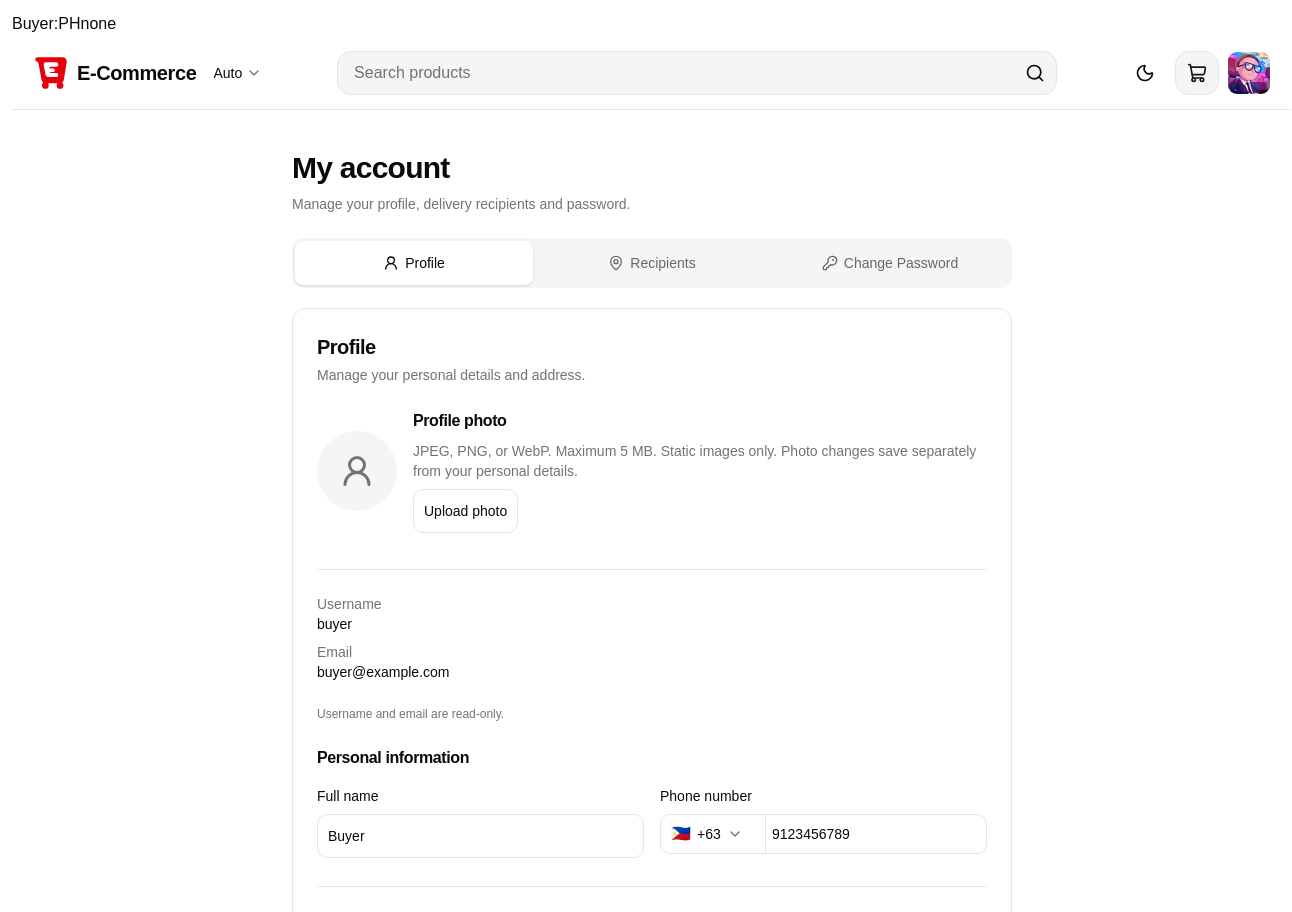
it: loads profile, keeps account identity read-only, and switches tabs
Expected: the field labelled "Full name" holds "Buyer", [317, 814, 644, 858]
Expected: the text "buyer@example.com" is shown, [317, 662, 450, 682]
Step 1. Click the tab "Recipients" → (652, 263), box [533, 241, 771, 285]
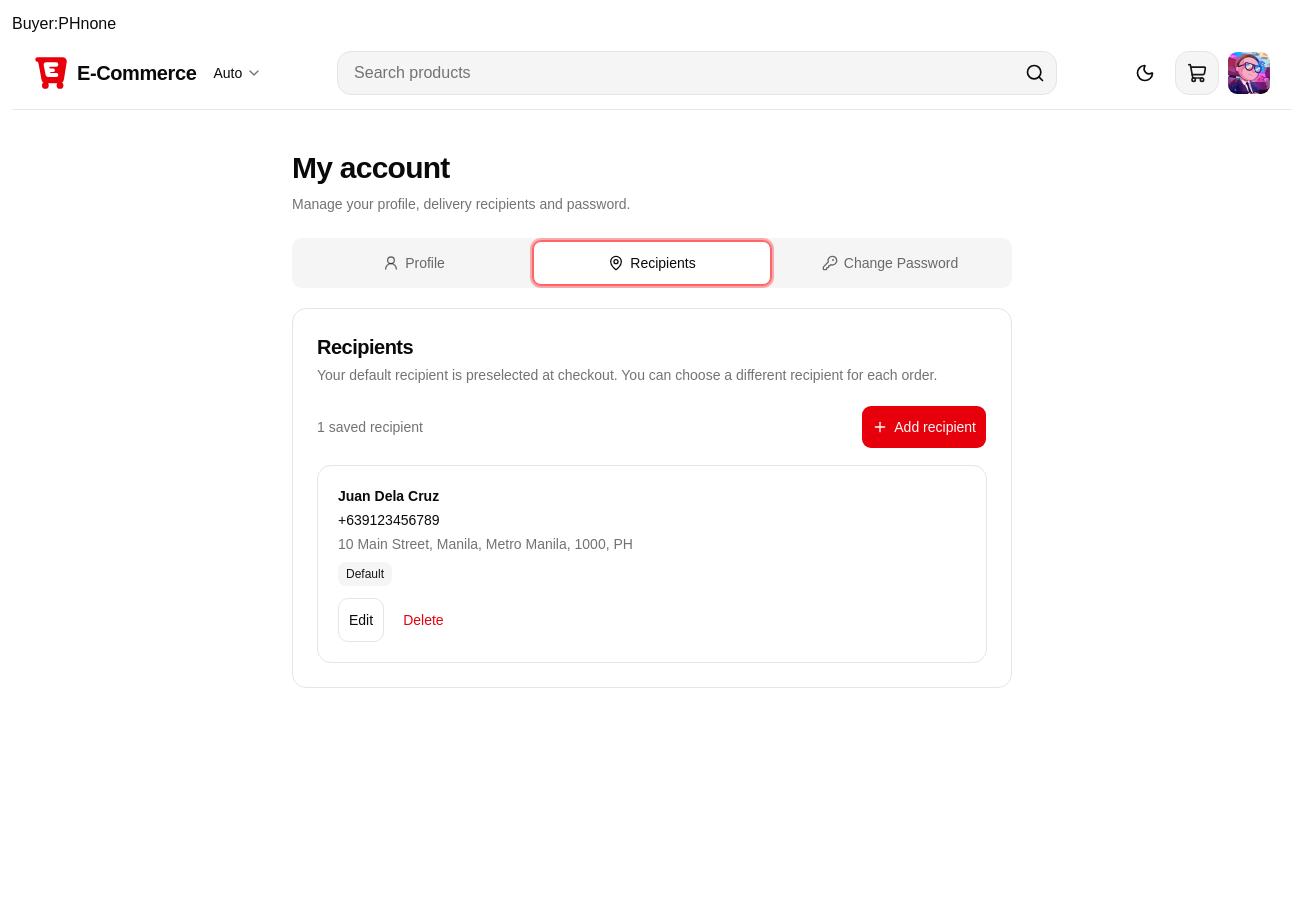
Expected: the text "Juan Dela Cruz" is shown, [338, 488, 439, 504]
Step 2. Click the tab "Profile" → (414, 263), box [295, 241, 533, 285]
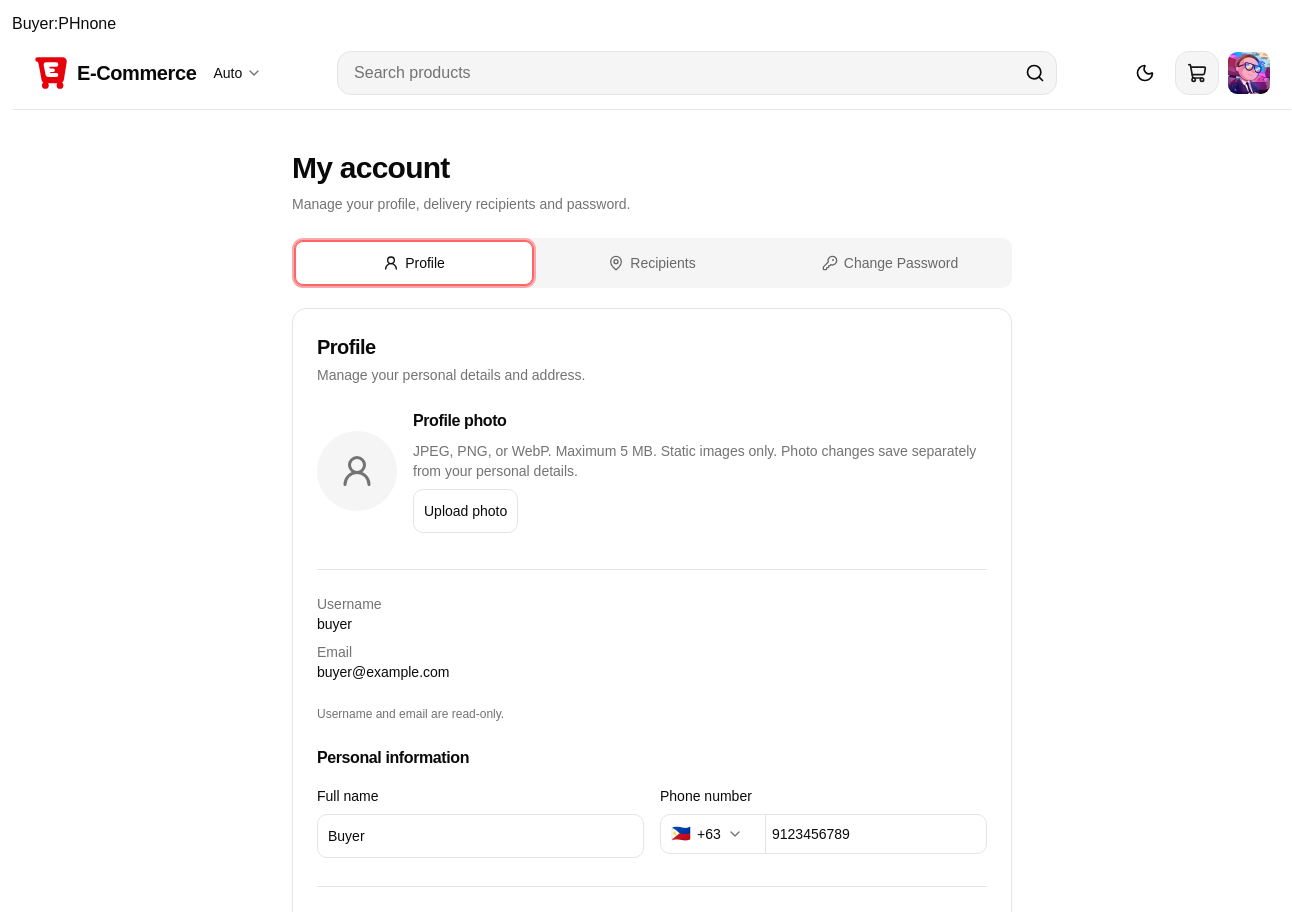
Expected: the field labelled "Full name" is shown, [317, 814, 644, 858]
